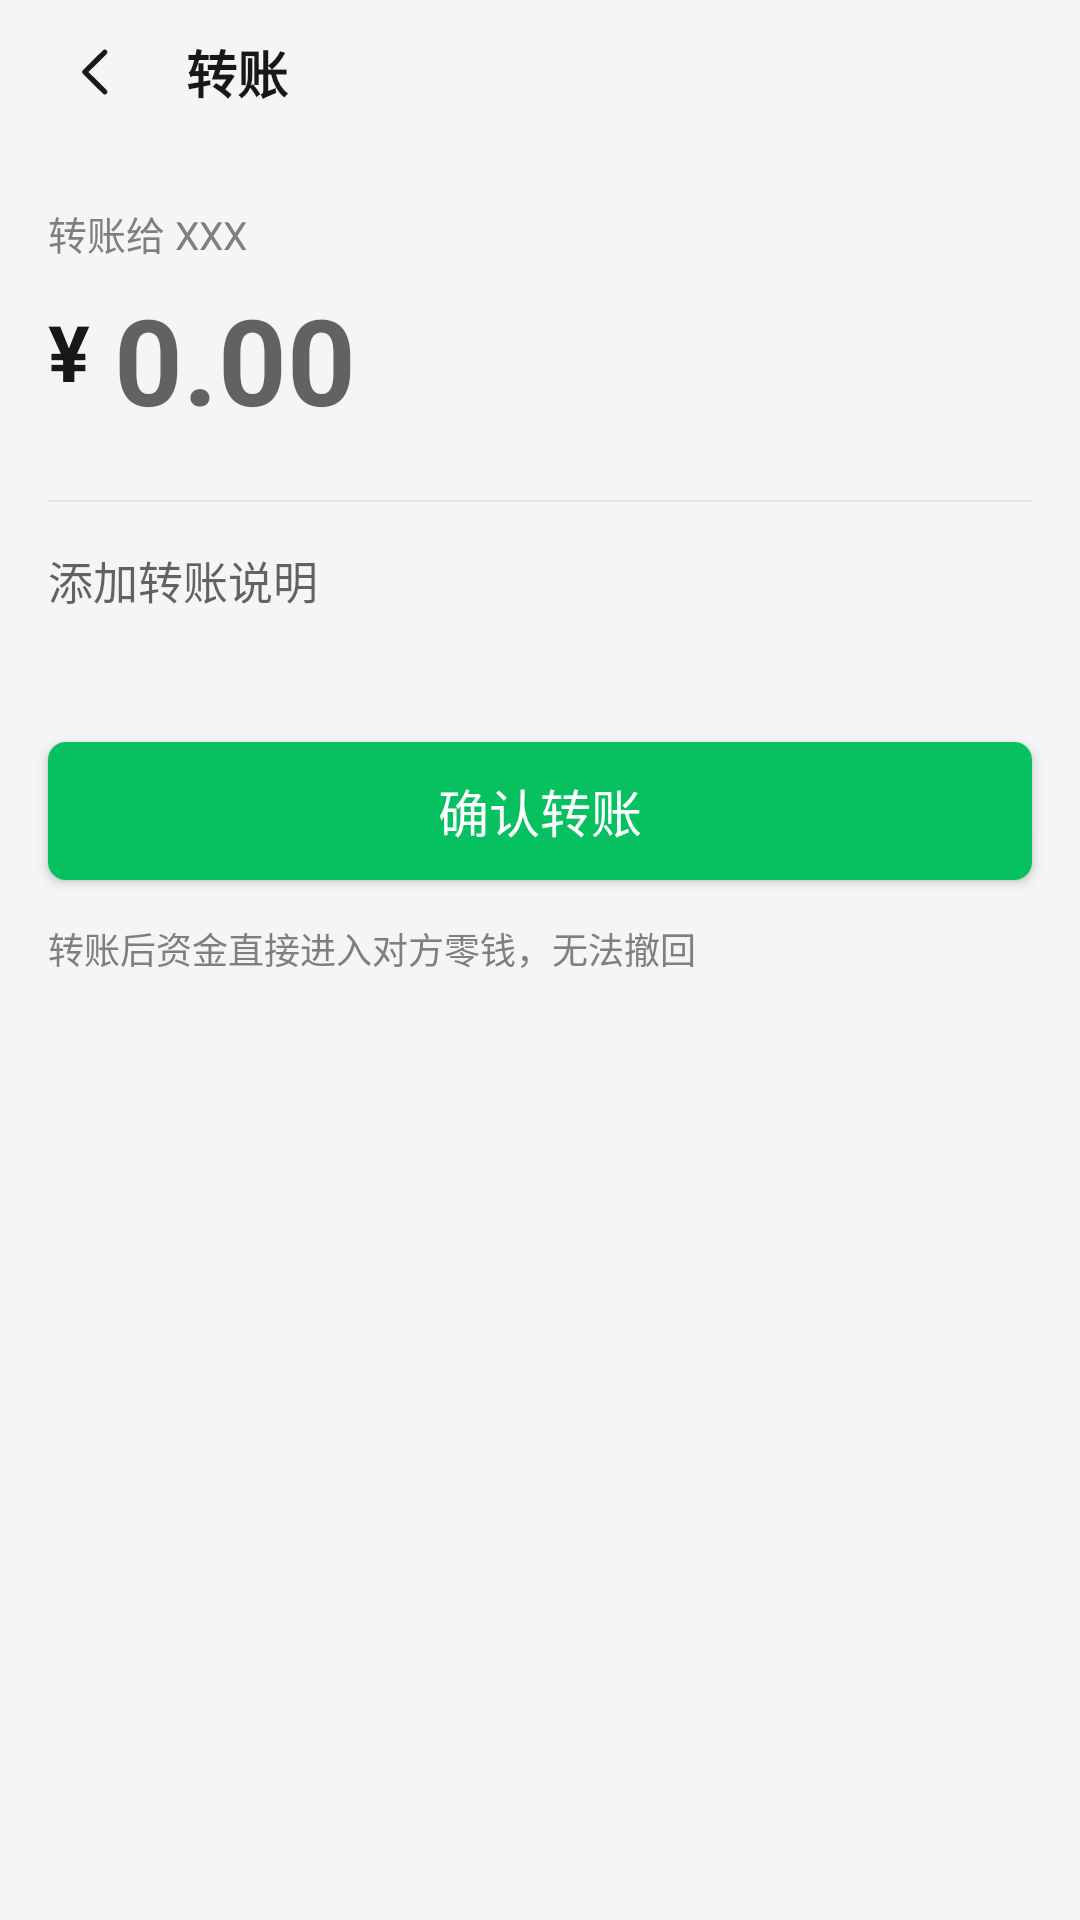

Named icons in this screenshot (1080w x 1920h) and their bounding boxes, (x1, y1, x2, y2):
返回: (82, 49, 108, 95)
